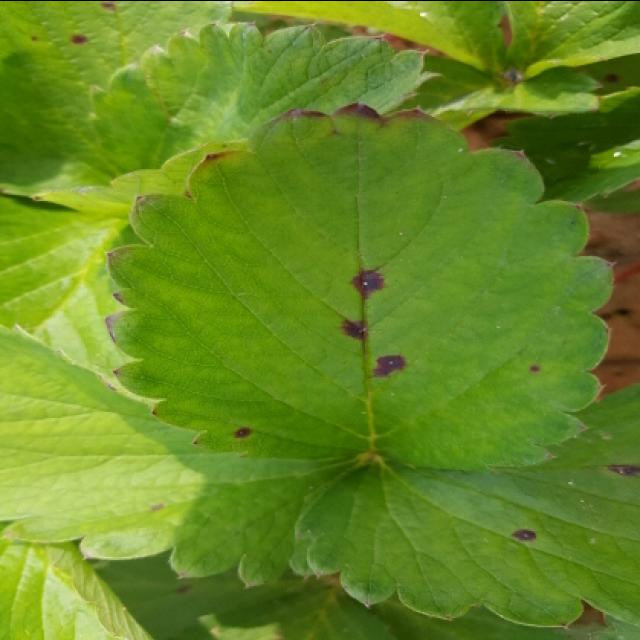Leaf Spot: (103, 98, 614, 474), (0, 324, 364, 588), (292, 380, 638, 629), (0, 2, 234, 192), (93, 549, 332, 637), (576, 55, 638, 94)
